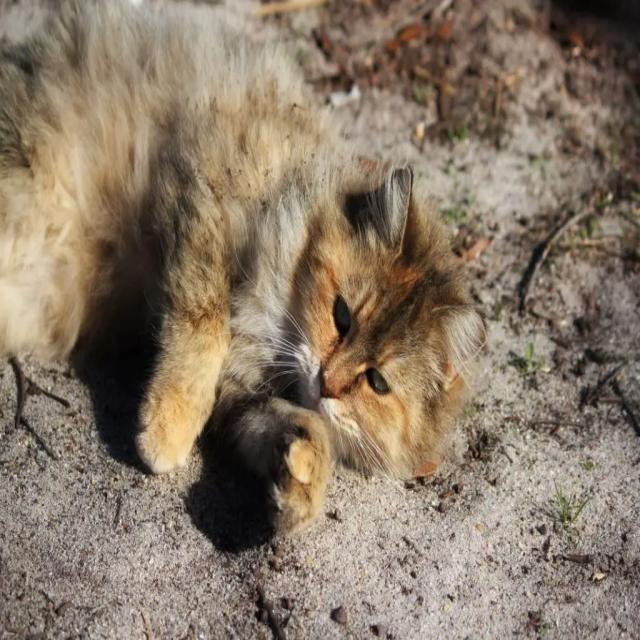cat: (0, 4, 485, 536)
